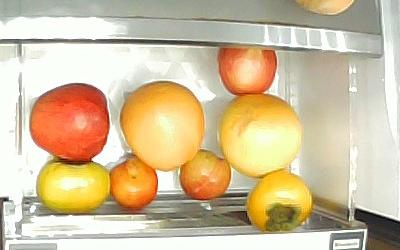apple: (28, 81, 110, 162), (216, 46, 277, 95)
grapefruit: (118, 79, 205, 172), (218, 91, 303, 178)
persimmon: (34, 155, 110, 214), (244, 168, 312, 231)
prune: (107, 154, 158, 209), (178, 148, 231, 200)
